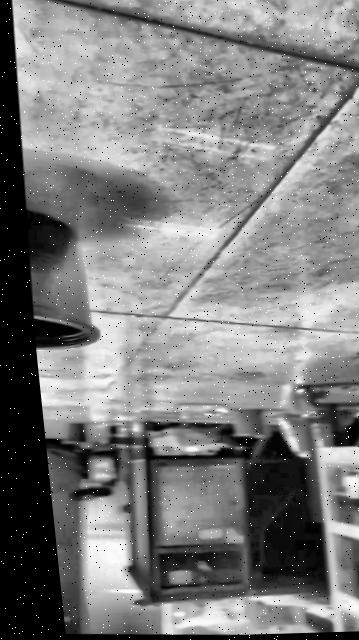pot: (22, 207, 104, 351)
